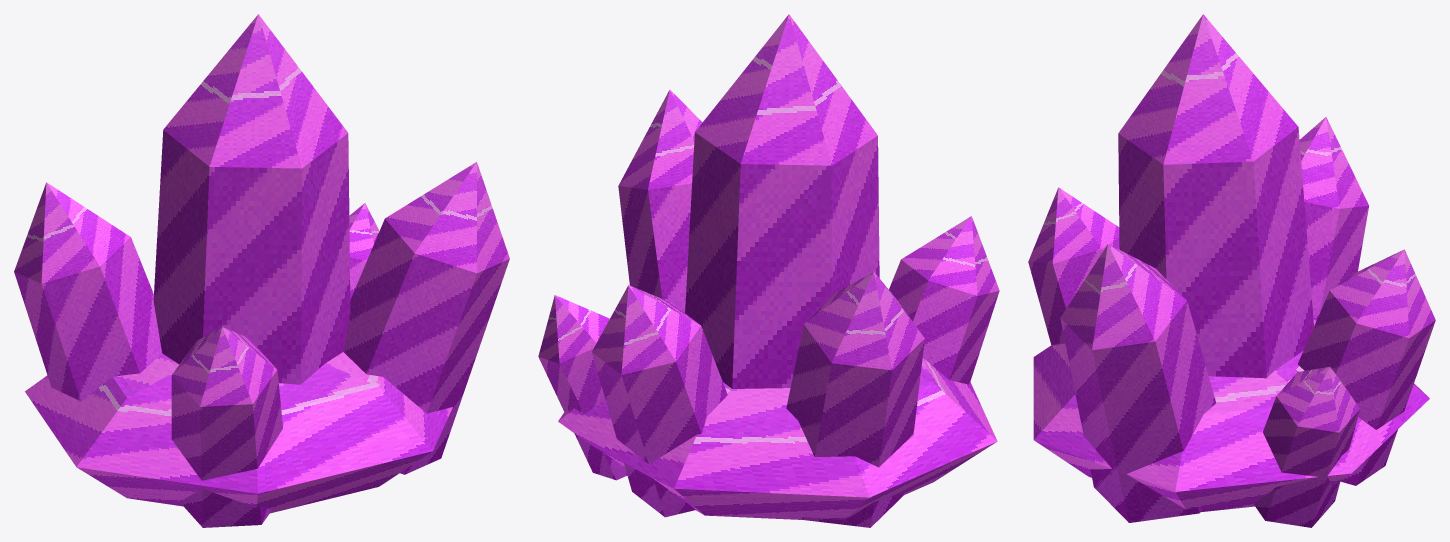
Rendered from cristal_da_fenda.glb.
The picture shows the model from 3 angles, left to right: view 1: azimuth 30°, elevation 25°; view 2: azimuth 150°, elevation 25°; view 3: azimuth 270°, elevation 25°; orthographic projection. The views are drawn at different scales.
Parts seen in each view (by area): view 1: cristal_da_fenda; view 2: cristal_da_fenda; view 3: cristal_da_fenda.
Boxes of the visible parts, x1,y1,x2,y2 form: cristal_da_fenda: [14, 14, 509, 527]; cristal_da_fenda: [538, 14, 999, 527]; cristal_da_fenda: [1028, 14, 1435, 527].
Size of the model in its own units: 0.8816 by 0.9964 by 0.8114.
Materials: 1 (1 with a texture image).
